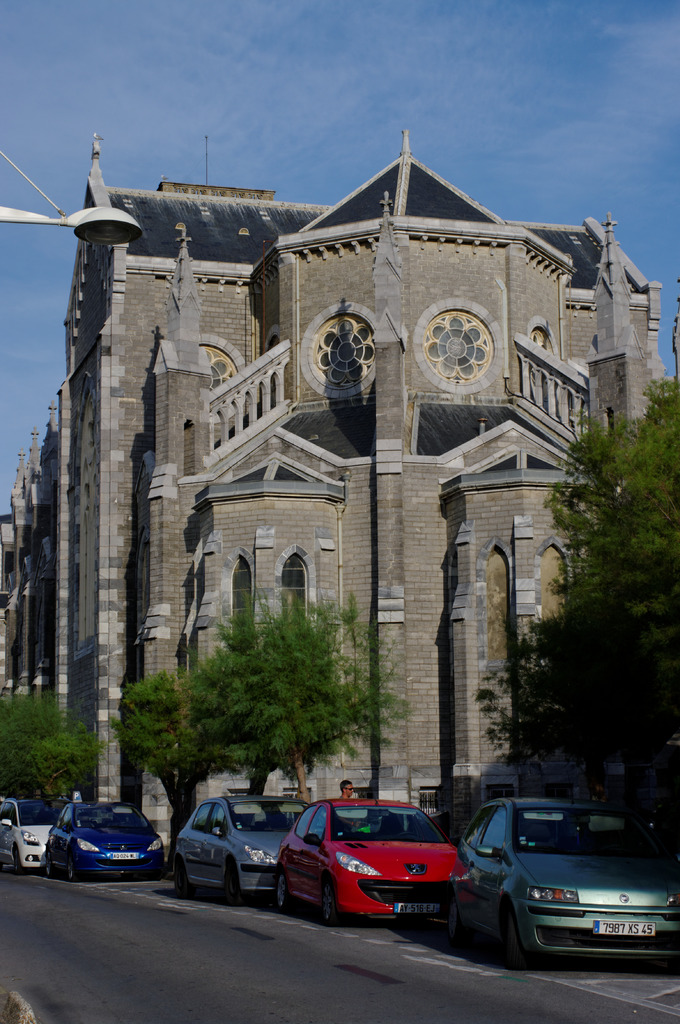Car: (458, 793, 679, 975), (284, 793, 481, 922), (158, 793, 336, 893), (47, 795, 184, 874), (0, 788, 81, 876)
